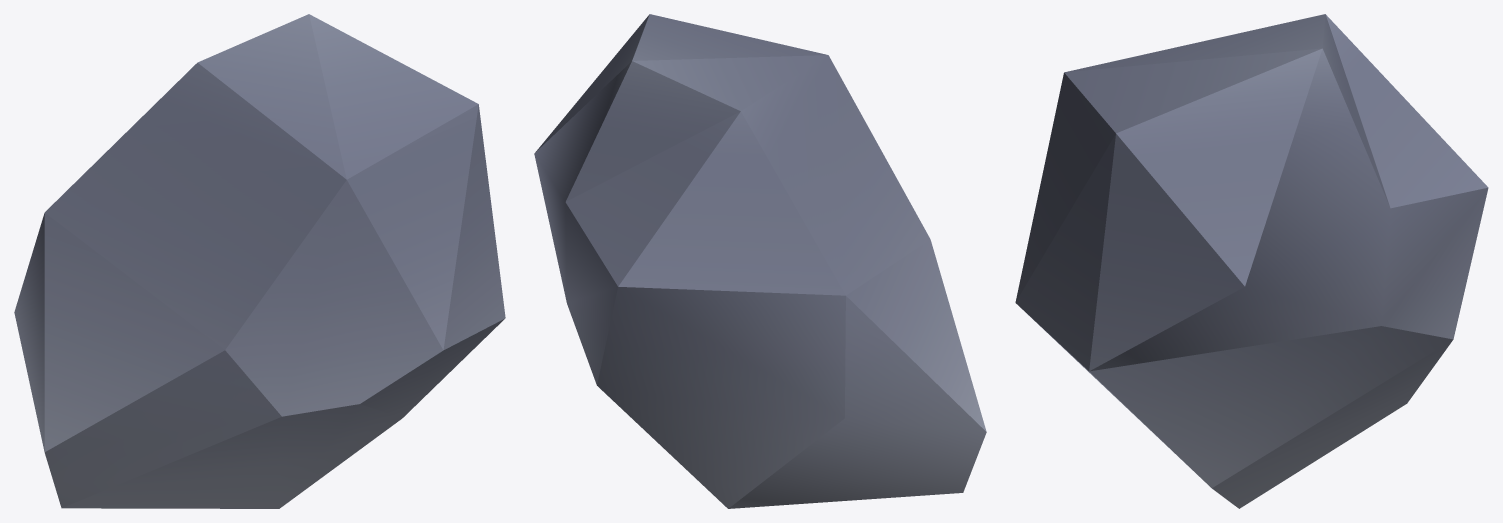
The model's file is Terrain_Stage2_Wall_4.fbx.
The picture shows the model from 3 angles, left to right: view 1: azimuth 30°, elevation 25°; view 2: azimuth 150°, elevation 25°; view 3: azimuth 270°, elevation 25°; orthographic projection. The views are drawn at different scales.
Visible parts, largest first — view 1: terrain_wall_408_1 #1494451; view 2: terrain_wall_408_1 #1494451; view 3: terrain_wall_408_1 #1494451.
Part boxes in pixels (bbox=[...]): terrain_wall_408_1 #1494451: bbox=[14, 14, 505, 508]; terrain_wall_408_1 #1494451: bbox=[534, 14, 986, 508]; terrain_wall_408_1 #1494451: bbox=[1015, 14, 1488, 508].
Bounding box in the file's own units: 171 × 166 × 144.
1 material, 1 textured.
